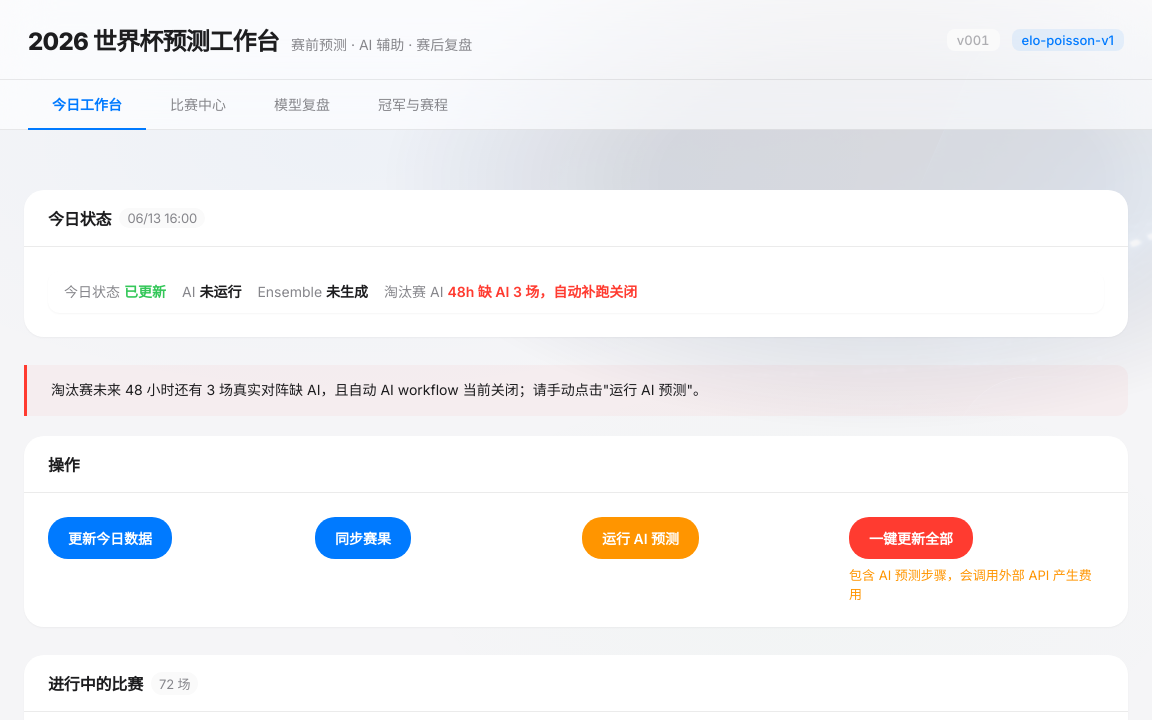
Test: shows knockout audit on model review with readiness warning
Click the tab "模型复盘": (302, 105) [250,80,354,130]
(page scrolled)
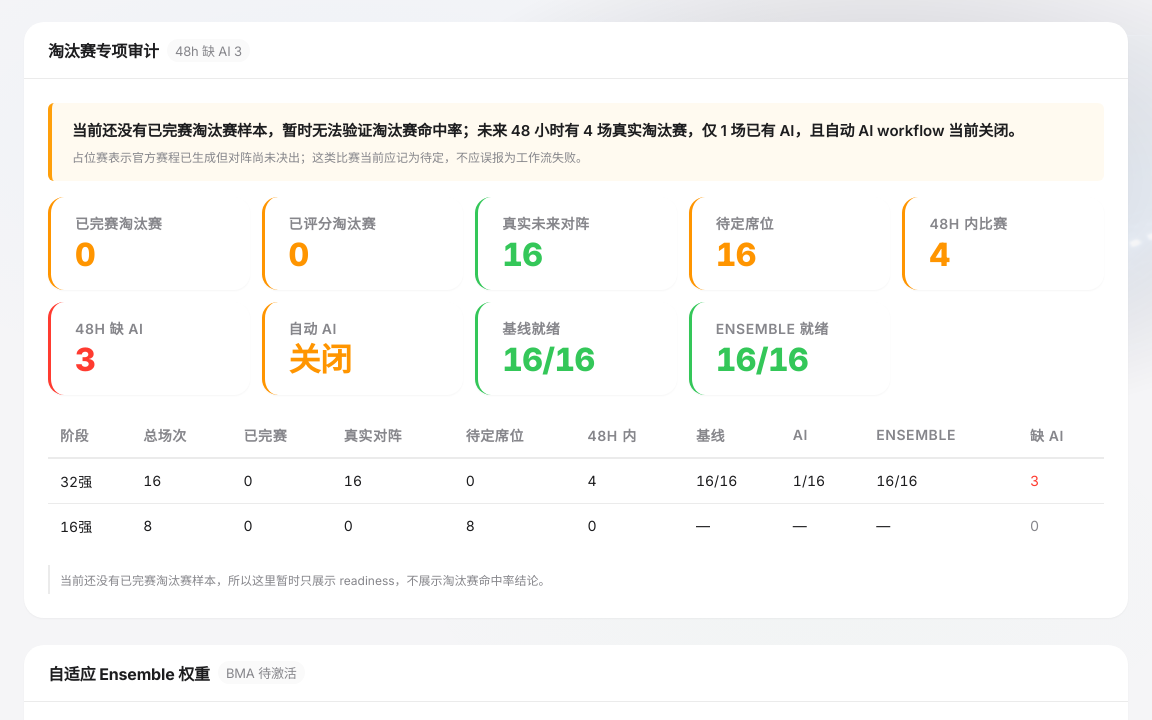
Result: the heading "淘汰赛专项审计 48h 缺 AI 3" is shown at [48,38,250,62]
Result: the text "未来 48 小时有 4 场真实淘汰赛，仅 1 场已有 AI，且自动 AI workflow 当前关闭" is shown at [72,121,1023,140]
Result: the text "48h 缺 AI" is shown at [75,320,143,337]
